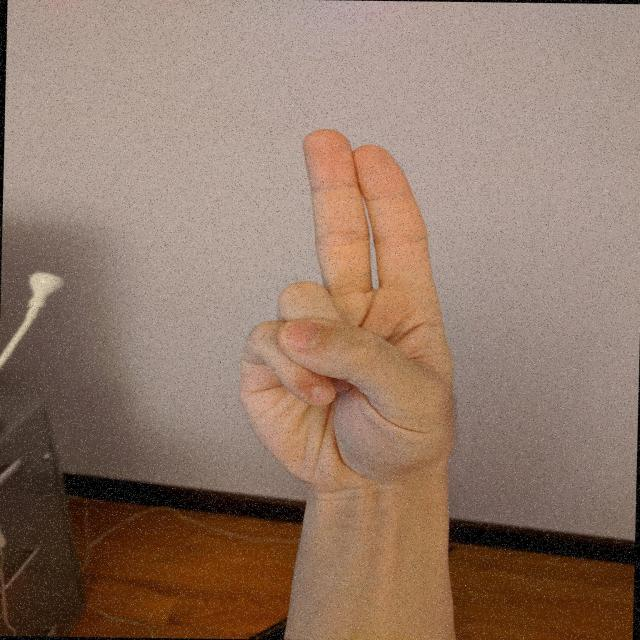U: (226, 121, 480, 494)
